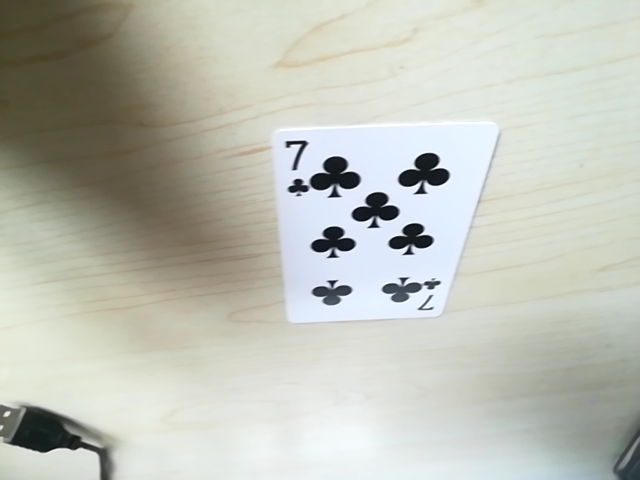mh 7: (396, 280, 445, 316), (275, 133, 314, 178)
